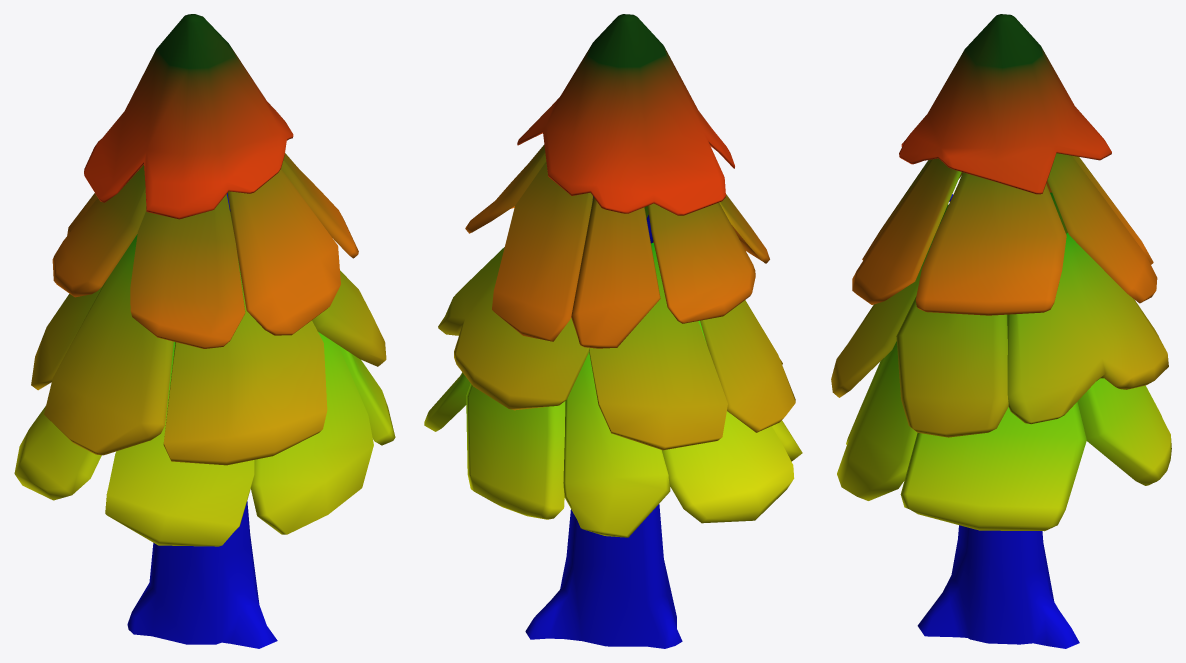
File: SM_HealthyFirTree_01_LOD1.fbx
3 renders of one model, left to right at view 1: azimuth 30°, elevation 25°; view 2: azimuth 150°, elevation 25°; view 3: azimuth 270°, elevation 25°, orthographic.
Parts seen in each view (by area): view 1: FirTree_Trunk_LOD1; view 2: FirTree_Trunk_LOD1; view 3: FirTree_Trunk_LOD1.
Boxes of the visible parts, x1,y1,x2,y2 form: FirTree_Trunk_LOD1: [14, 14, 395, 648]; FirTree_Trunk_LOD1: [424, 14, 802, 648]; FirTree_Trunk_LOD1: [831, 14, 1171, 648].
Bounding box in the file's own units: 484 × 830 × 427.
